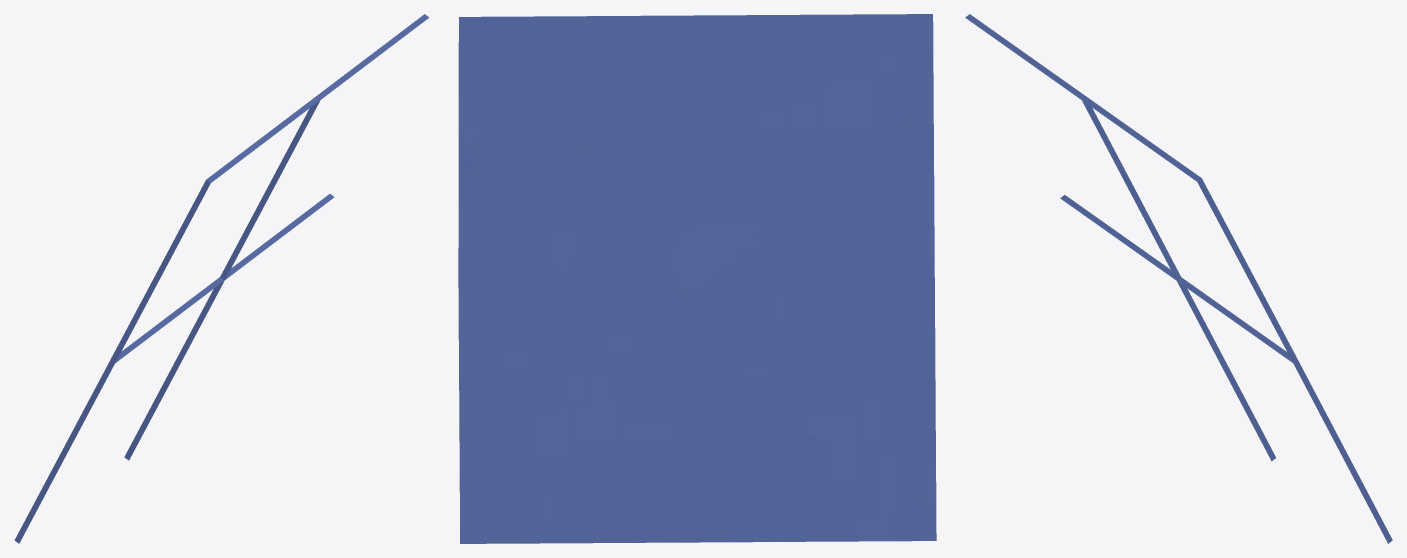
3 views of the same model, side by side, from view 1: azimuth 30°, elevation 25°; view 2: azimuth 150°, elevation 25°; view 3: azimuth 270°, elevation 25° (orthographic). The views are drawn at different scales.
Bounding box in the file's own units: 19680 × 17712 × 16678.
1 material, 1 textured.
